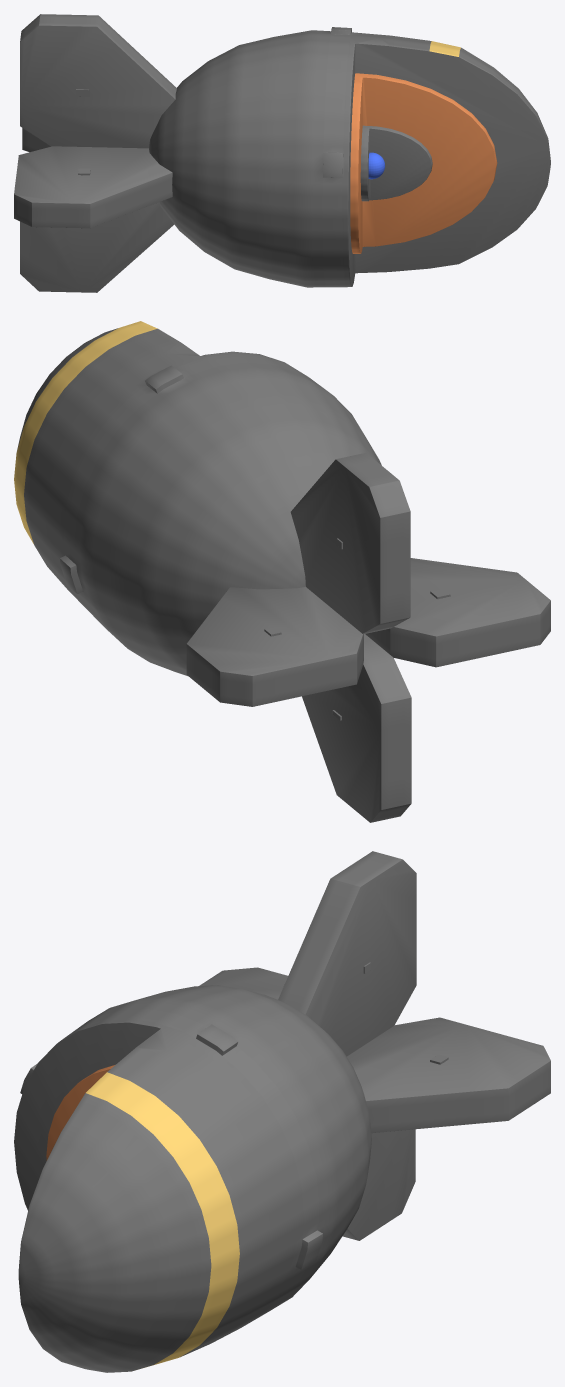
The model's file is uranium.fbx.
3 views of the same model, one above another, from view 1: azimuth 30°, elevation 25°; view 2: azimuth 150°, elevation 25°; view 3: azimuth 270°, elevation 25° (orthographic). The views are drawn at different scales.
Parts seen in each view (by area): view 1: bomb; view 2: bomb; view 3: bomb.
Boxes of the visible parts, x1,y1,x2,y2 form: bomb: (14, 14, 550, 292); bomb: (14, 321, 550, 822); bomb: (14, 851, 550, 1372).
Bounding box in the file's own units: 393 × 217 × 298.
